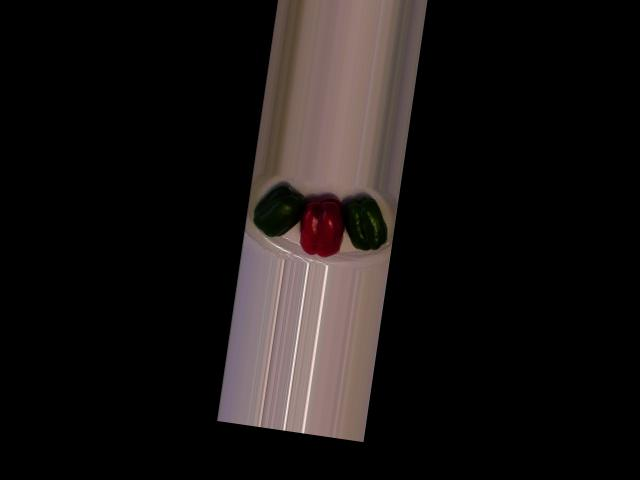bell_pepper: (247, 176, 308, 247)
